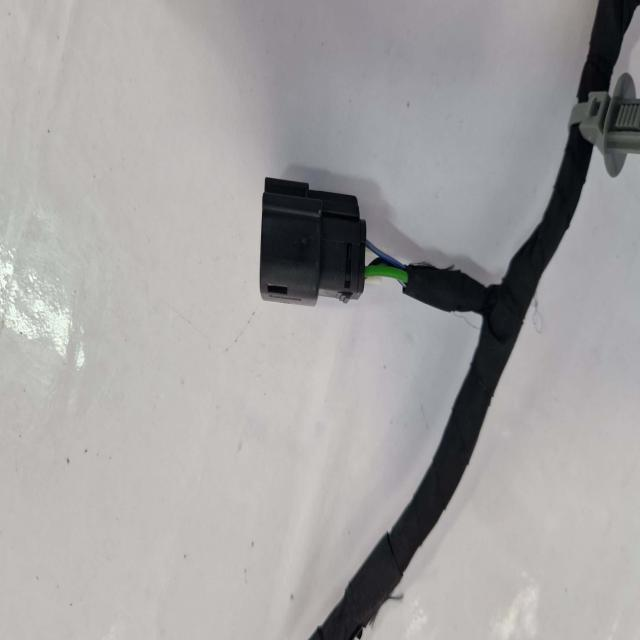Clip: (563, 77, 640, 180)
Connector: (257, 177, 365, 303)
Gape: (365, 238, 408, 314)
MHEV_N11_Cable: (311, 132, 592, 635), (574, 0, 632, 116)
